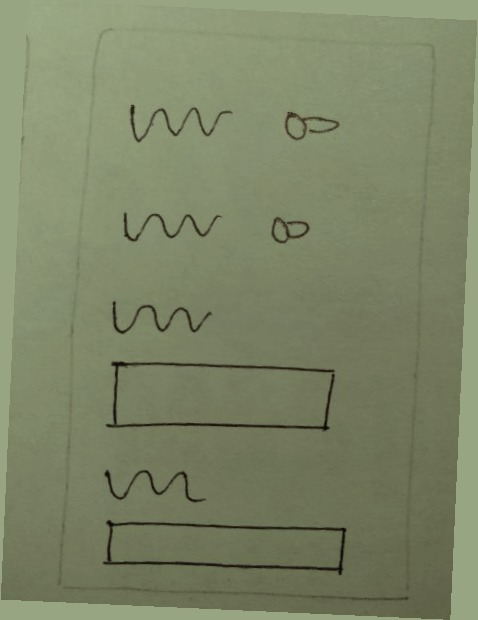switch: (270, 102, 354, 152), (258, 205, 323, 259)
text: (94, 452, 214, 515), (117, 94, 242, 153), (102, 288, 225, 345), (112, 199, 231, 256)
text_input: (95, 353, 348, 445), (97, 512, 357, 583)
